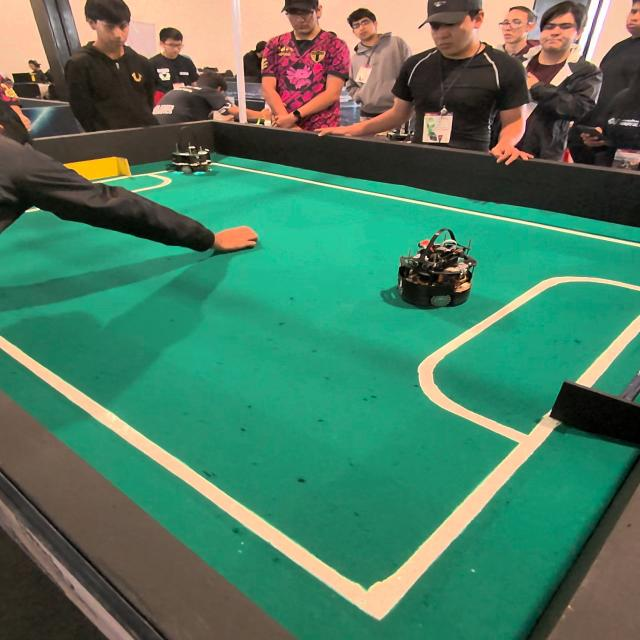Robot: (394, 230, 479, 314), (163, 122, 213, 176)
